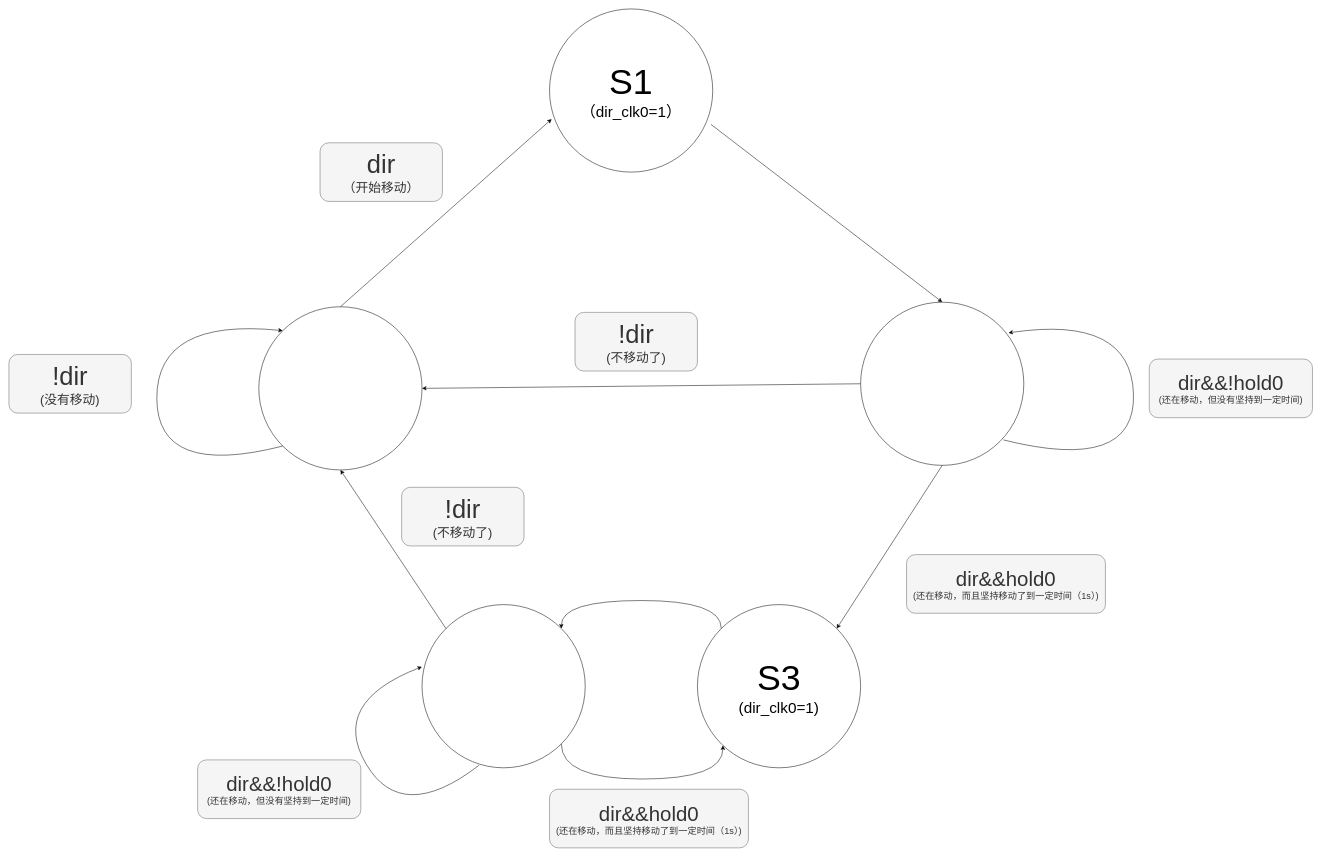
Some shapes in this 1321 by 857 pixel diagram are drawn without their labels. The shapes that lost their labels are listed below. From the top down, each one's box as (x1, y1, x2, y2) in pixels, then its label:
(258, 306, 422, 470): S0 （初始状态） dir_clk0=0
(860, 302, 1024, 465): S2 (dir_clk0=0)
(422, 604, 585, 768): S4 (dir_clk0=0)
